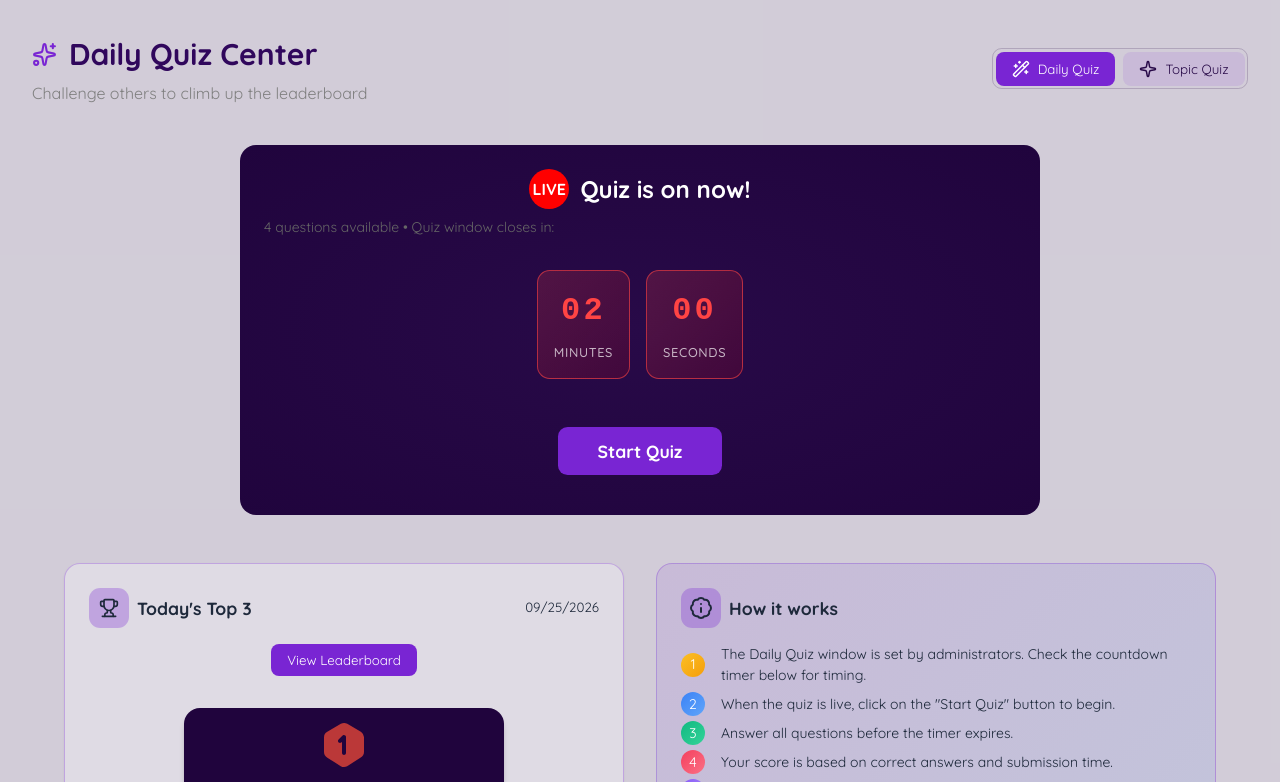
QuizScreen Integration (submit endpoints) › handles successful quiz submission (200 OK)
The image size is (1280, 782).
Click the button "Start Quiz": coordinates (640, 451) [558,427,722,475]
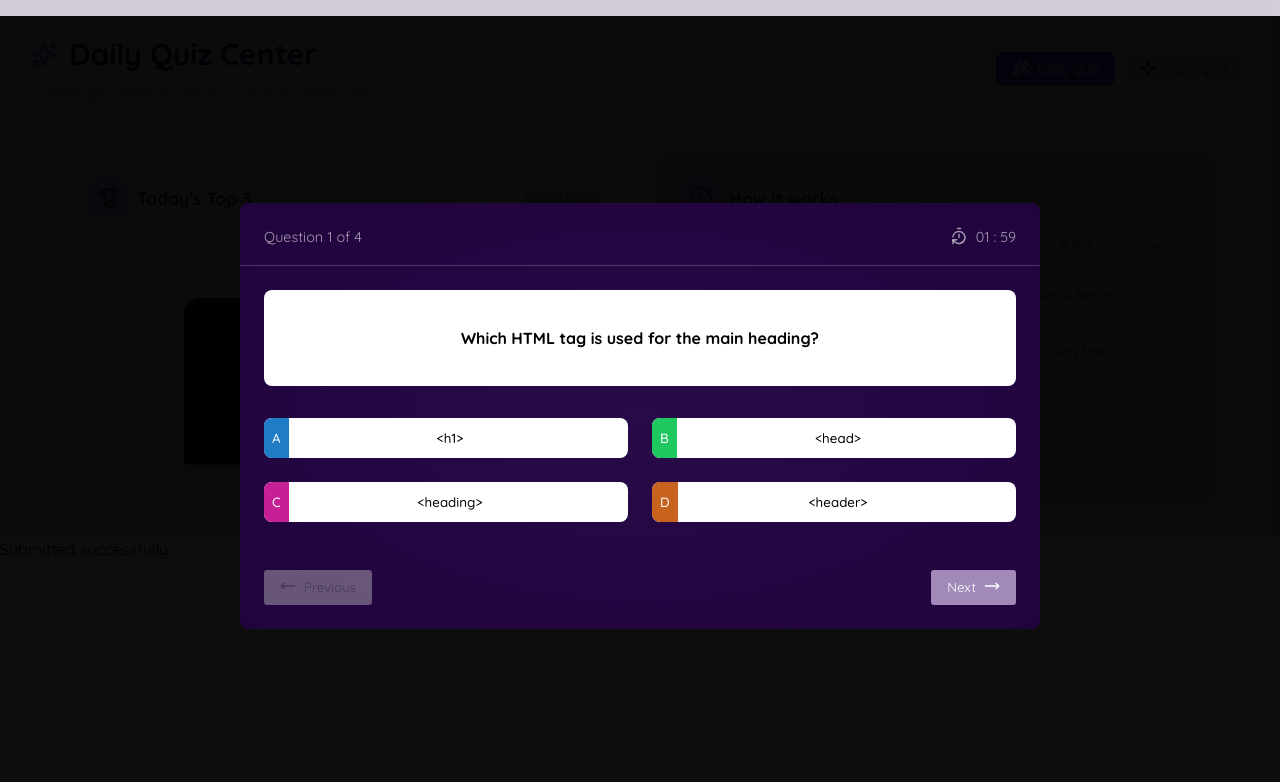
Click the button "Next": coordinates (974, 587) [931,570,1016,605]
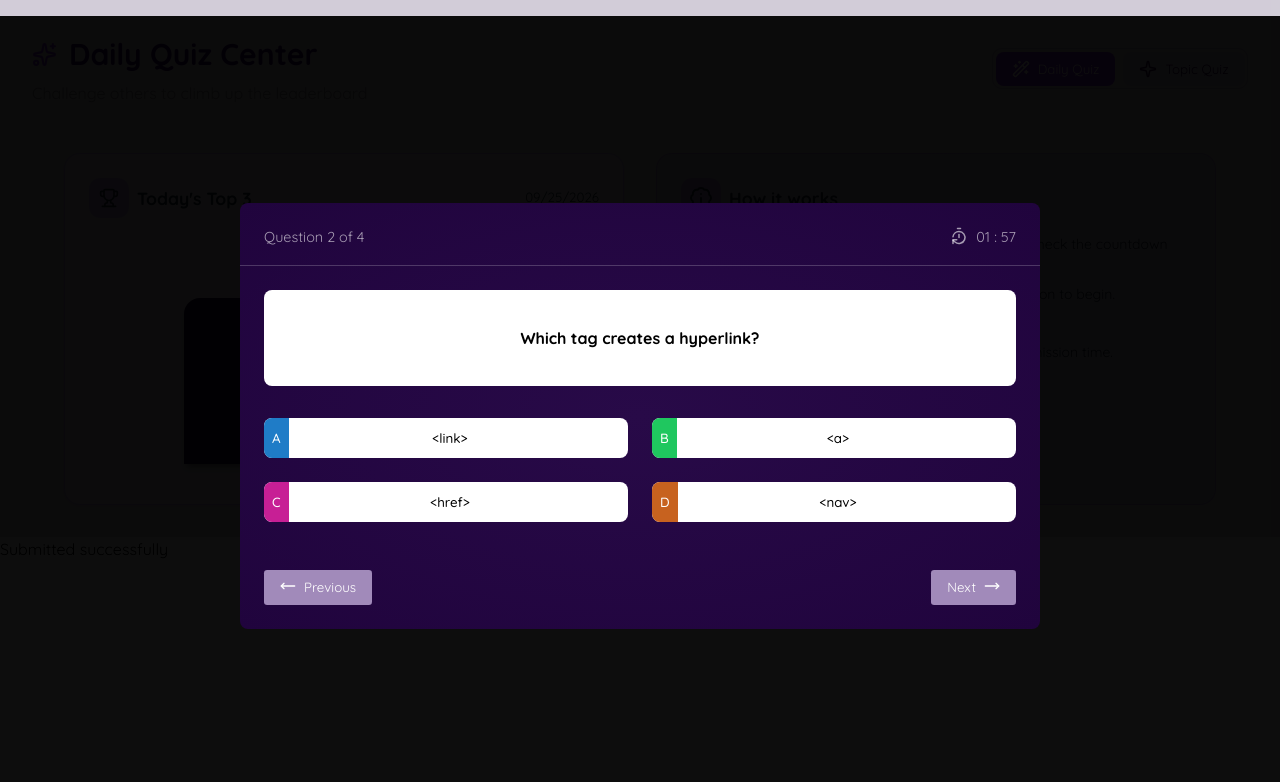
Click the button "Next": coordinates (974, 587) [931,570,1016,605]
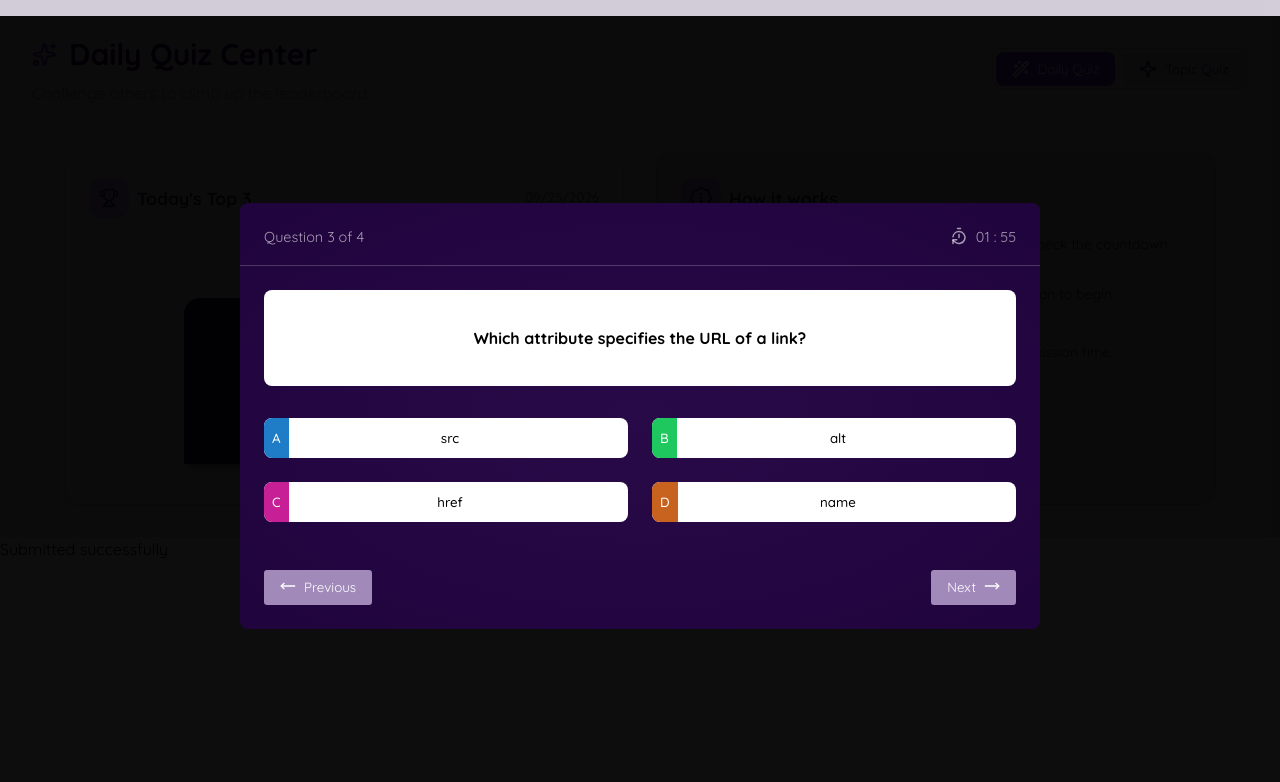
Click the button "Next": coordinates (974, 587) [931,570,1016,605]
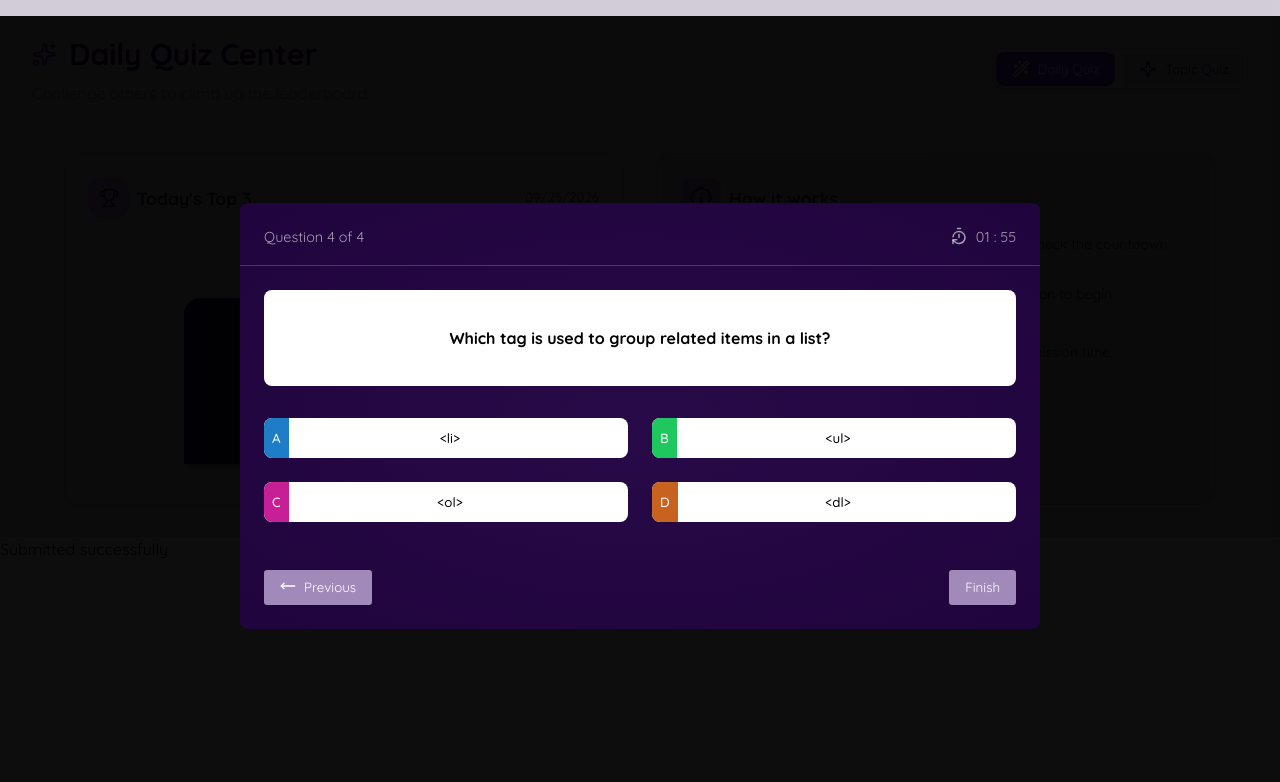
Click the button "Finish": coordinates (983, 587) [949,570,1016,605]
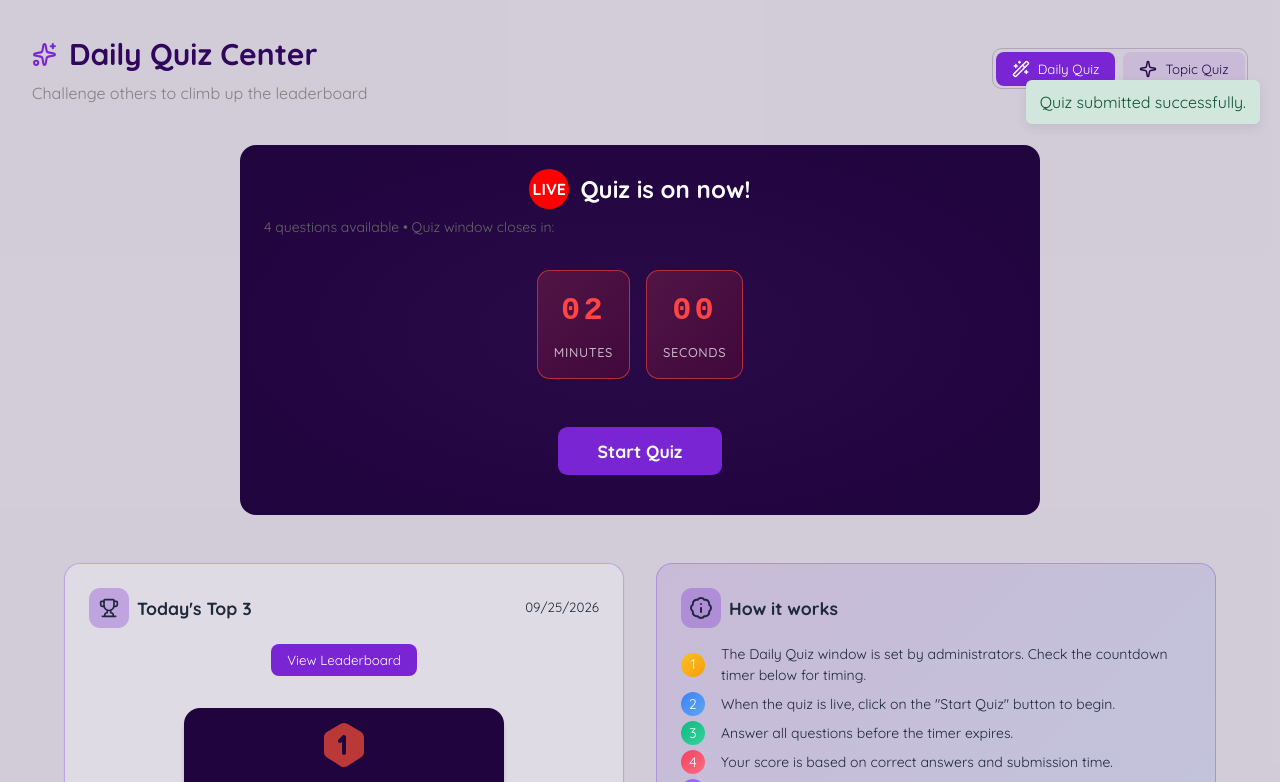
expect the text "Quiz submitted successfully." is shown: met, box [1026,80,1260,124]
